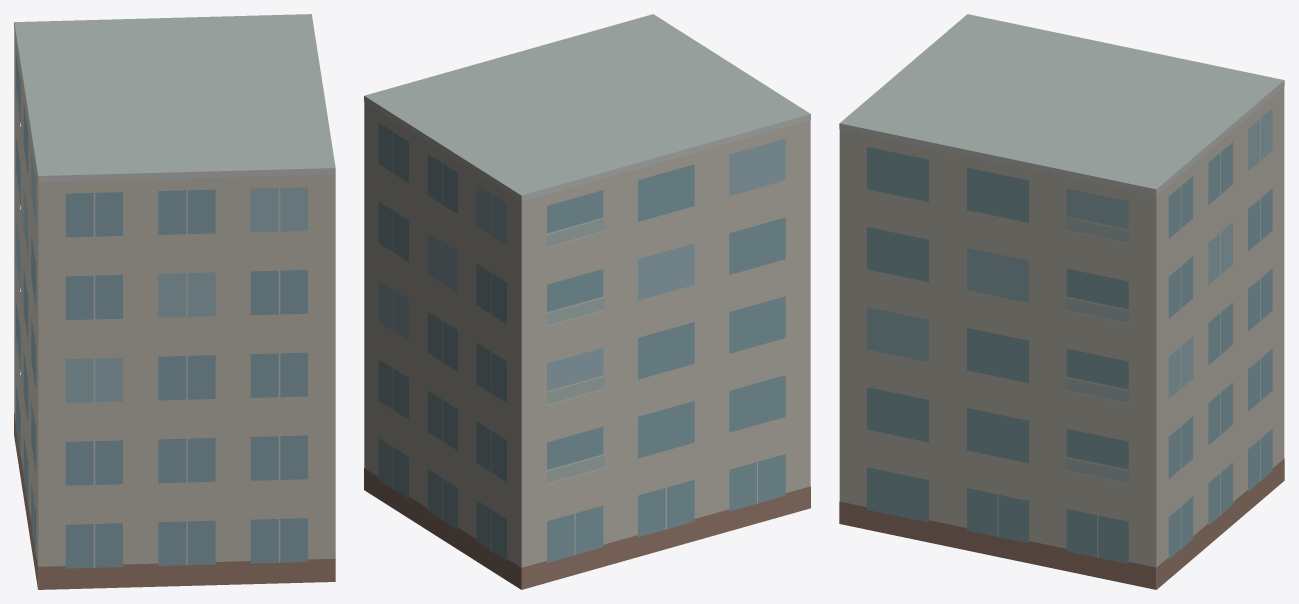
The model's file is survey-upis-32525025.glb.
The picture shows the model from 3 angles, left to right: view 1: azimuth 30°, elevation 25°; view 2: azimuth 150°, elevation 25°; view 3: azimuth 270°, elevation 25°; orthographic projection. The views are drawn at different scales.
Visible parts, largest first — view 1: survey-upis-32525025.tmp; view 2: survey-upis-32525025.tmp; view 3: survey-upis-32525025.tmp.
Boxes of the visible parts, <box> form: survey-upis-32525025.tmp: <box>14,14,335,589</box>; survey-upis-32525025.tmp: <box>364,14,810,589</box>; survey-upis-32525025.tmp: <box>839,14,1284,589</box>.
Size of the model in its own units: 14.98 by 15.95 by 16.07.
